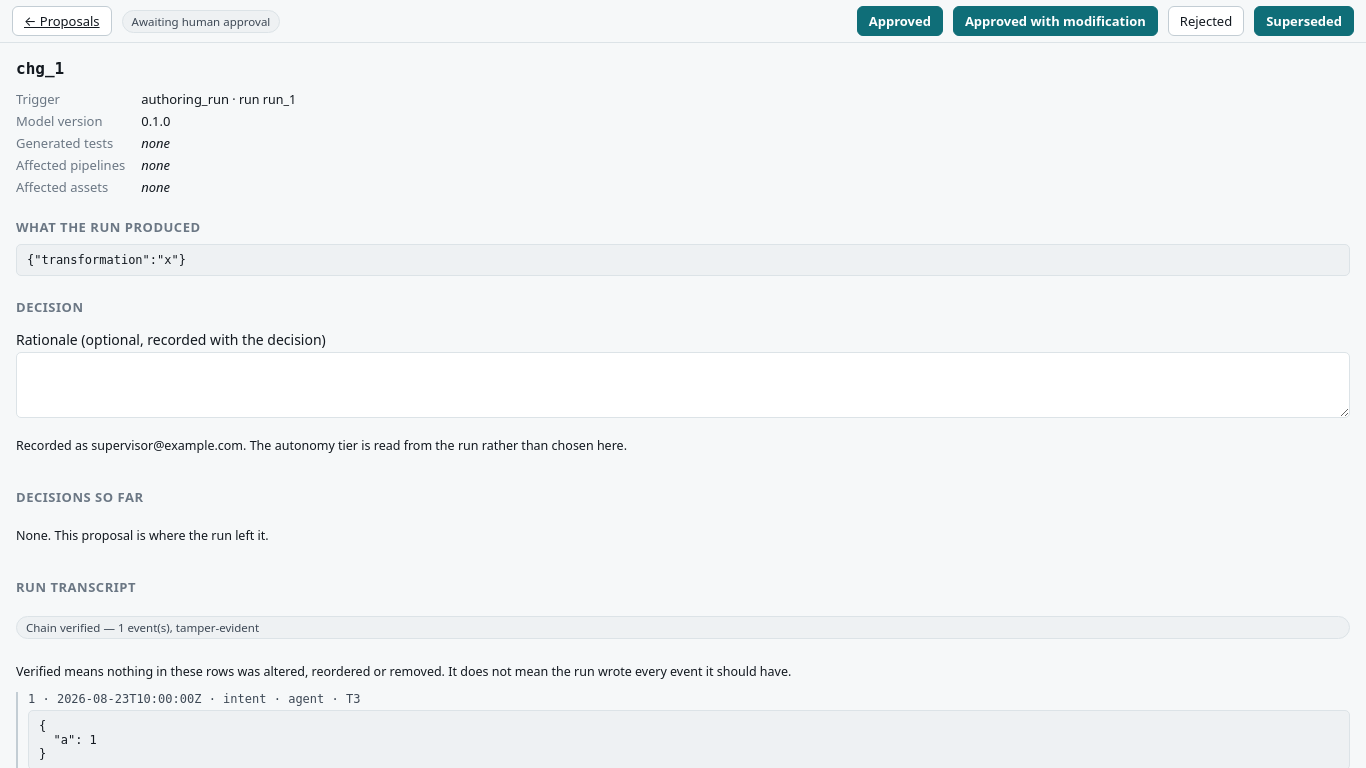
Scenario: the decision screen › re-reads the proposal when a decision conflicts
Click the button "Approved". click: click(900, 21)
box: [857,6,943,36]
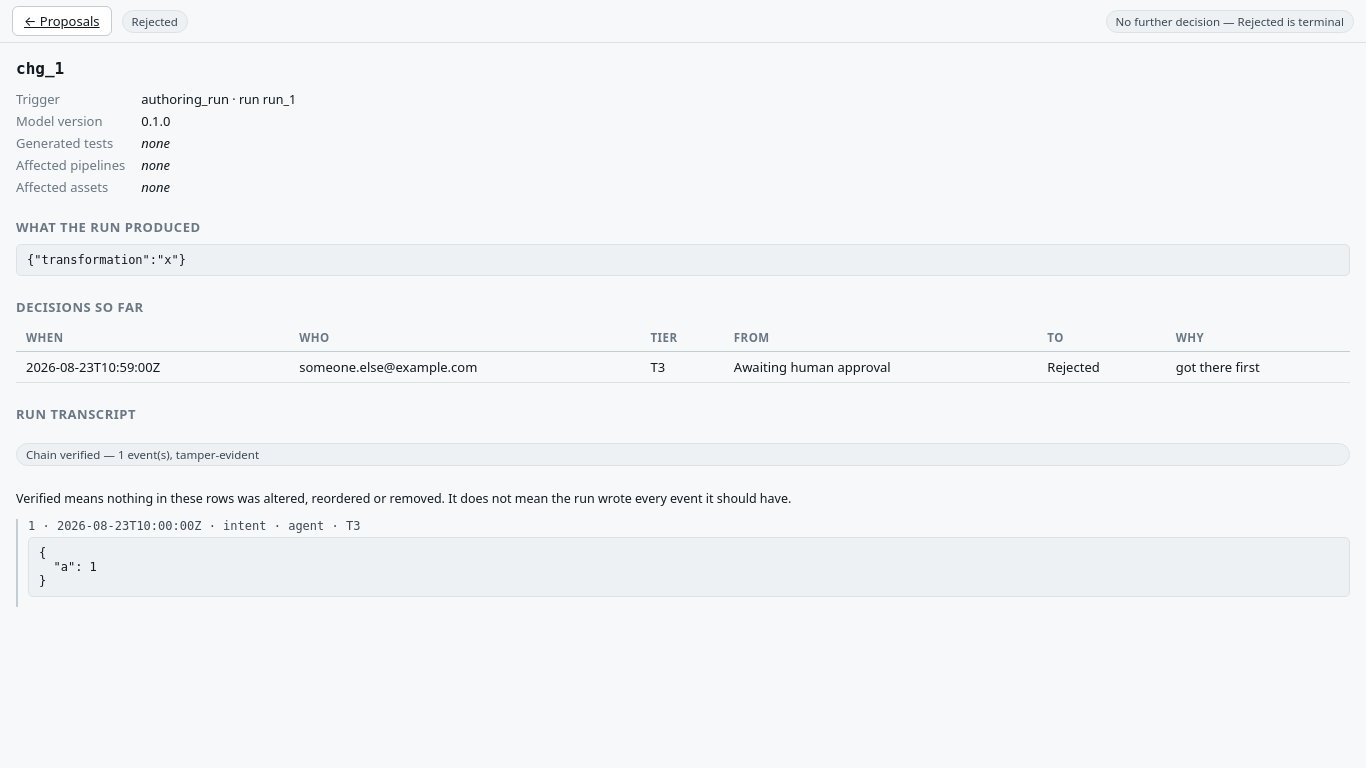
Check: the text "someone.else@example.com" is shown, box [289,352,640,382]
